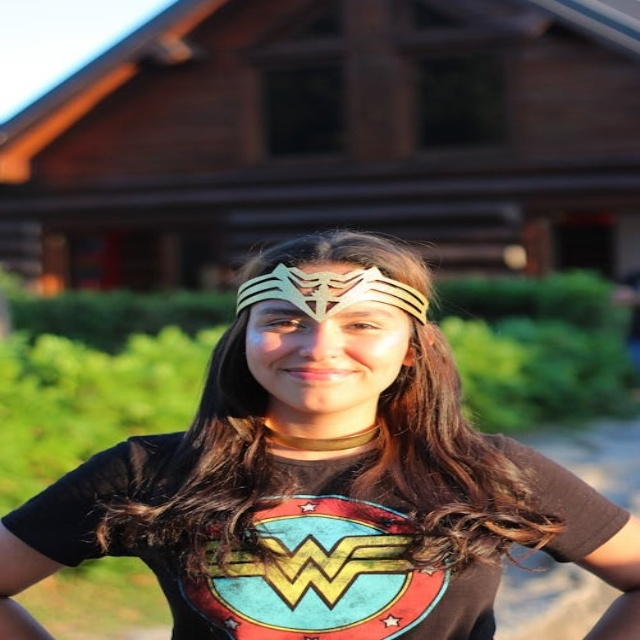Sin_gafas: (257, 309, 384, 340)
Sin_mascara: (273, 358, 364, 404)
